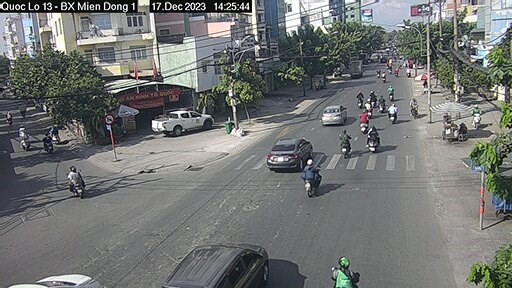car: (150, 109, 217, 137), (265, 136, 312, 170), (319, 101, 347, 126)
motorbike: (299, 161, 322, 198), (66, 169, 86, 197), (335, 127, 351, 156), (366, 125, 380, 153), (356, 108, 369, 132), (389, 100, 398, 126)
